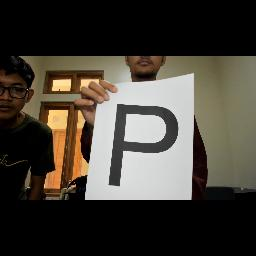p: (107, 100, 181, 192)
